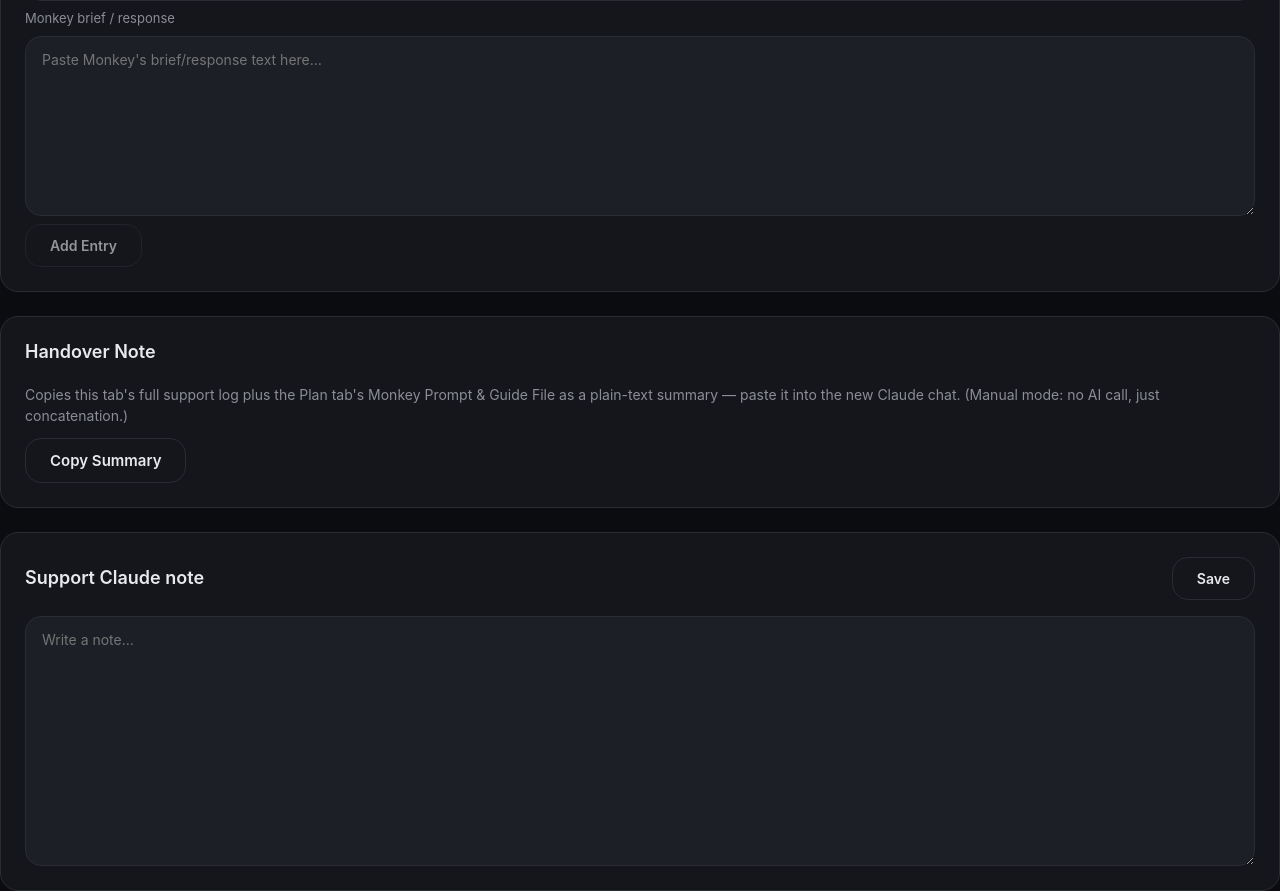
Test case: SupportTab — copy summary button › copies the full log plus the prompt_guide_file to the clipboard
The image size is (1280, 891).
(page scrolled)
Step 1. Click the button with test id "copy-summary" → (106, 460), box [25,438,186,483]
(page scrolled)
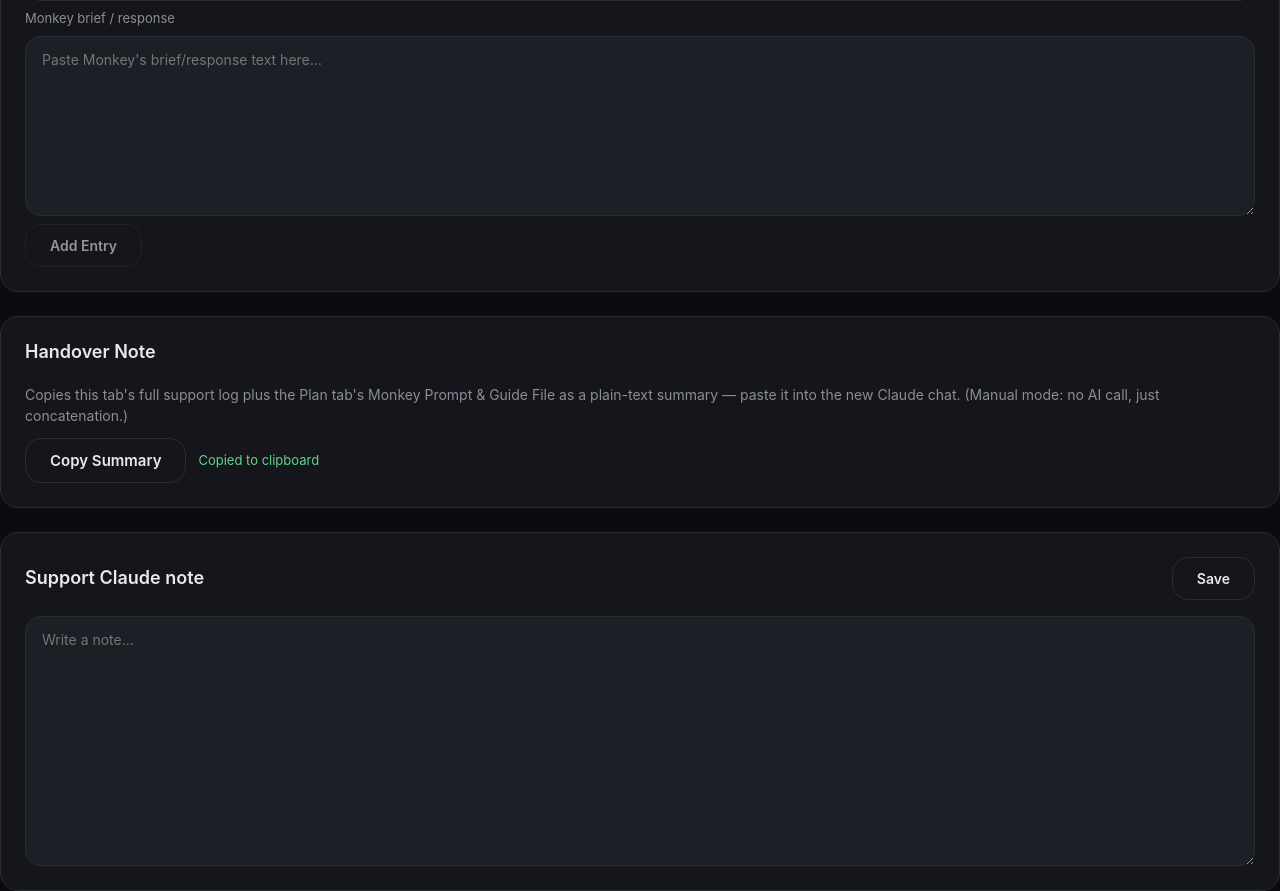
Result: the text with test id "copy-status" reads "Copied to clipboard" at [198,452,319,468]
